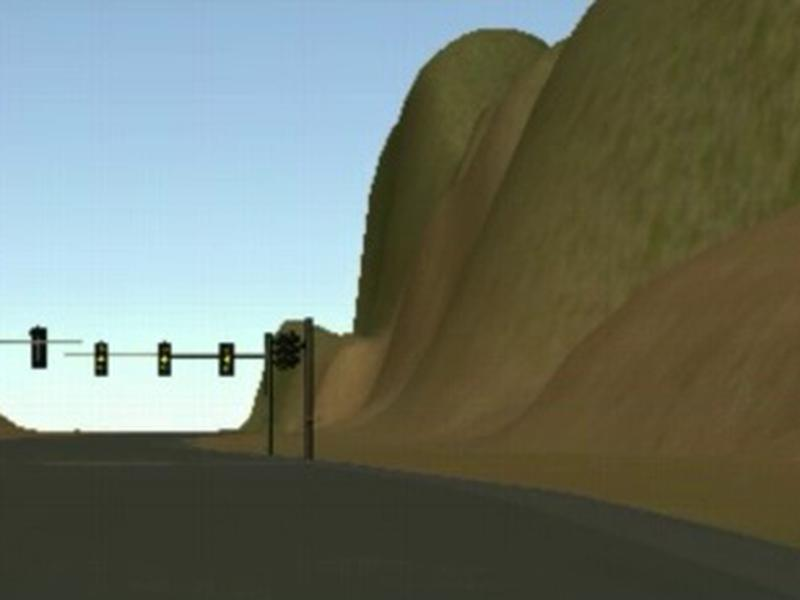Yellow: (217, 344, 234, 374), (157, 344, 170, 377), (93, 342, 106, 375)
